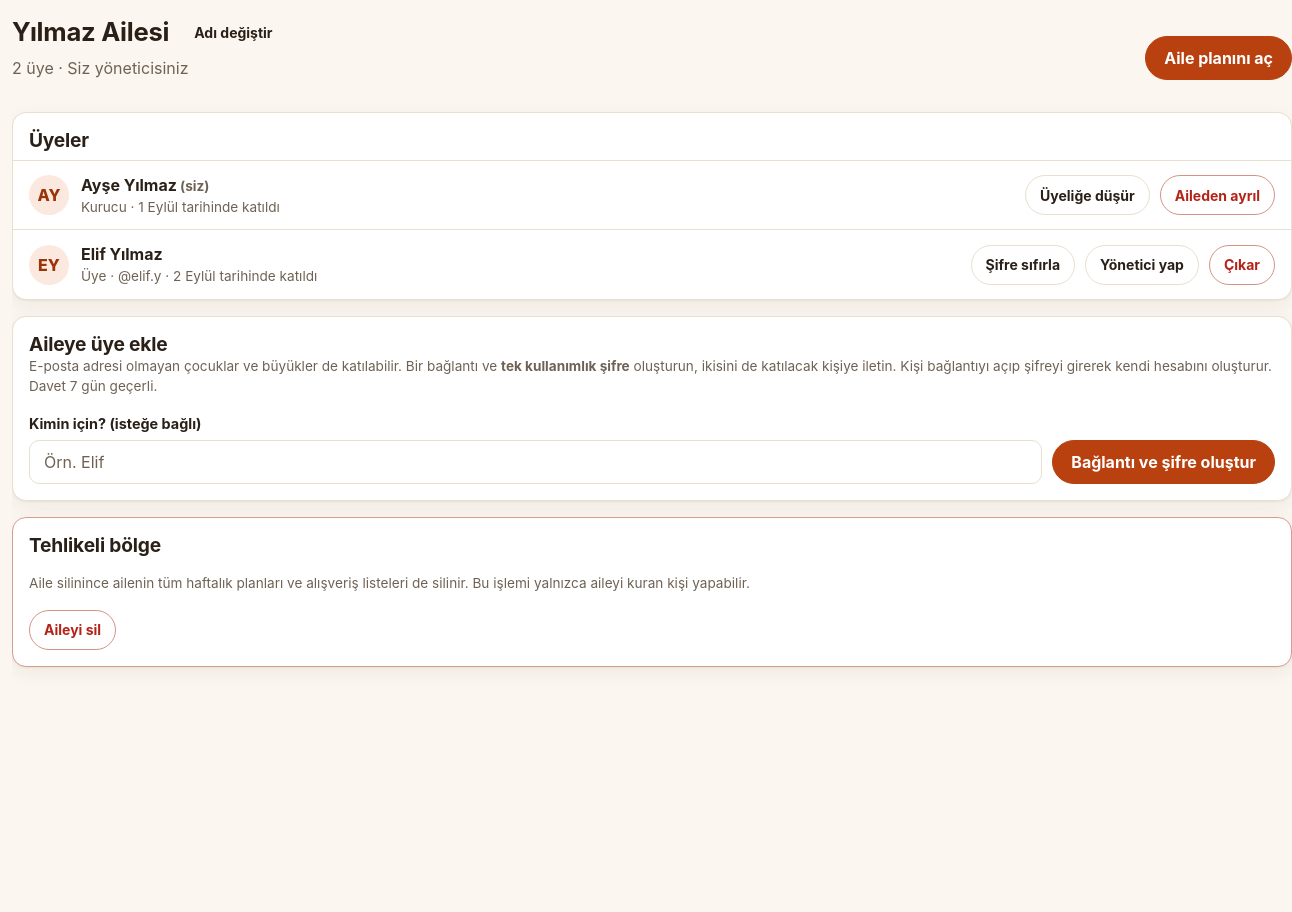
it: FamilyDetailPage: bağlantı ve tek kullanımlık şifre › davet oluşturma hatasını Türkçe gösterir
Click the button "Bağlantı ve şifre oluştur".
click(1164, 462)  # box [1052,440,1275,484]
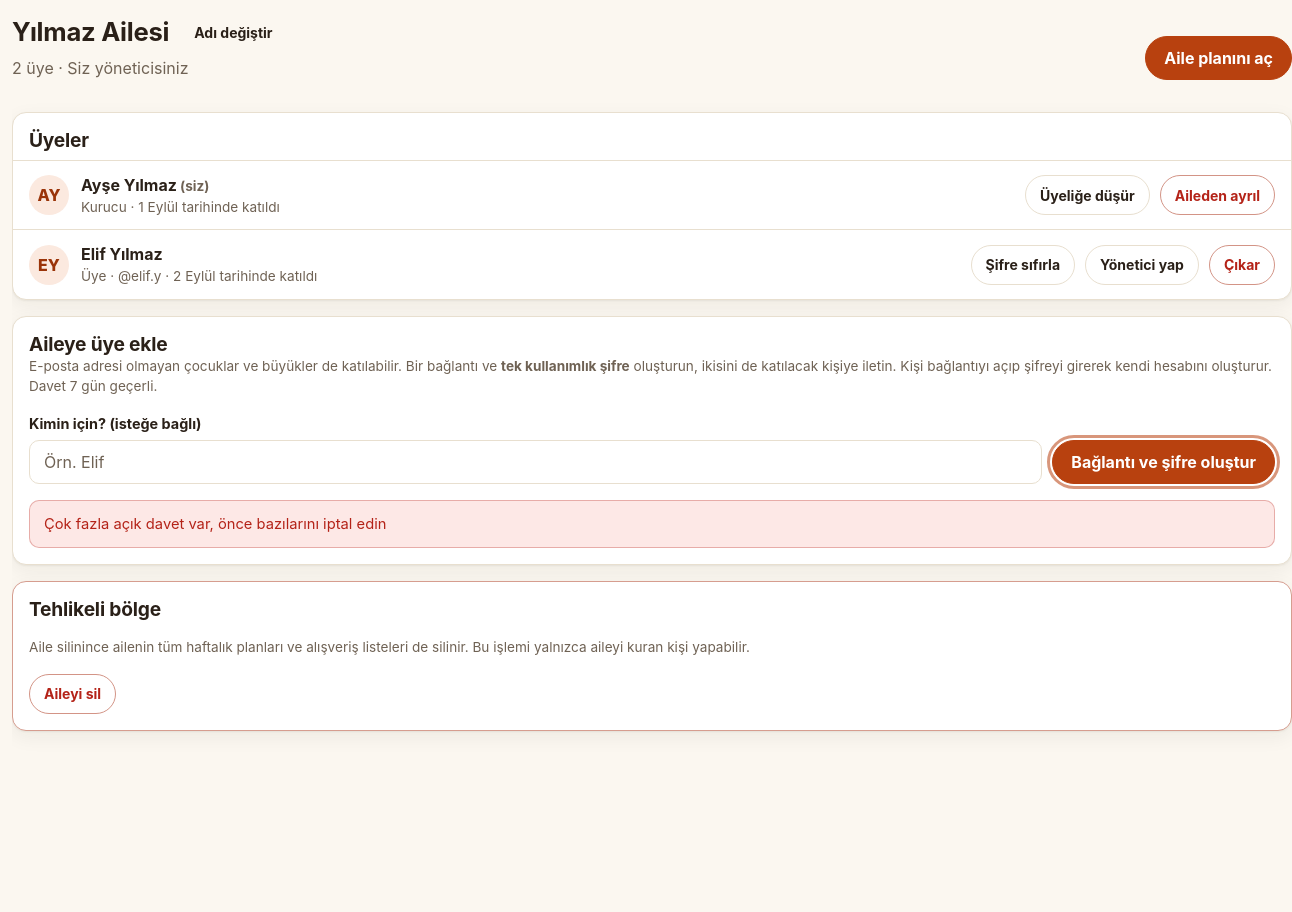
Expected: the message shows "Çok fazla açık davet var", [44,515,386,533]
